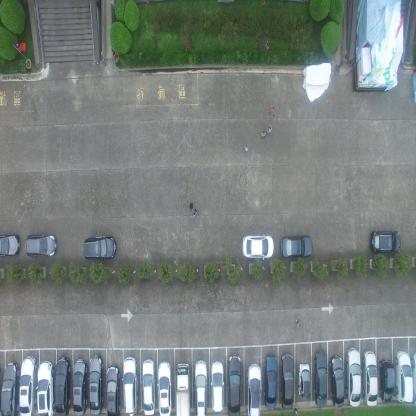car: (0, 359, 20, 415), (36, 359, 54, 415), (54, 356, 71, 415), (20, 353, 36, 415), (88, 353, 104, 415), (226, 353, 242, 415), (72, 356, 88, 416), (122, 355, 138, 415), (346, 346, 361, 406), (363, 348, 378, 408), (368, 228, 402, 254), (396, 350, 413, 402), (174, 360, 190, 415), (329, 353, 345, 407), (193, 358, 208, 415), (313, 349, 328, 406), (280, 234, 314, 259), (157, 359, 172, 415), (242, 232, 274, 258), (246, 363, 262, 415), (142, 358, 156, 416), (280, 351, 294, 409), (263, 354, 278, 408), (26, 232, 58, 257), (210, 358, 224, 414), (83, 236, 117, 259), (106, 364, 120, 415), (379, 357, 395, 401), (0, 232, 21, 258), (297, 361, 311, 396), (412, 350, 416, 406)
